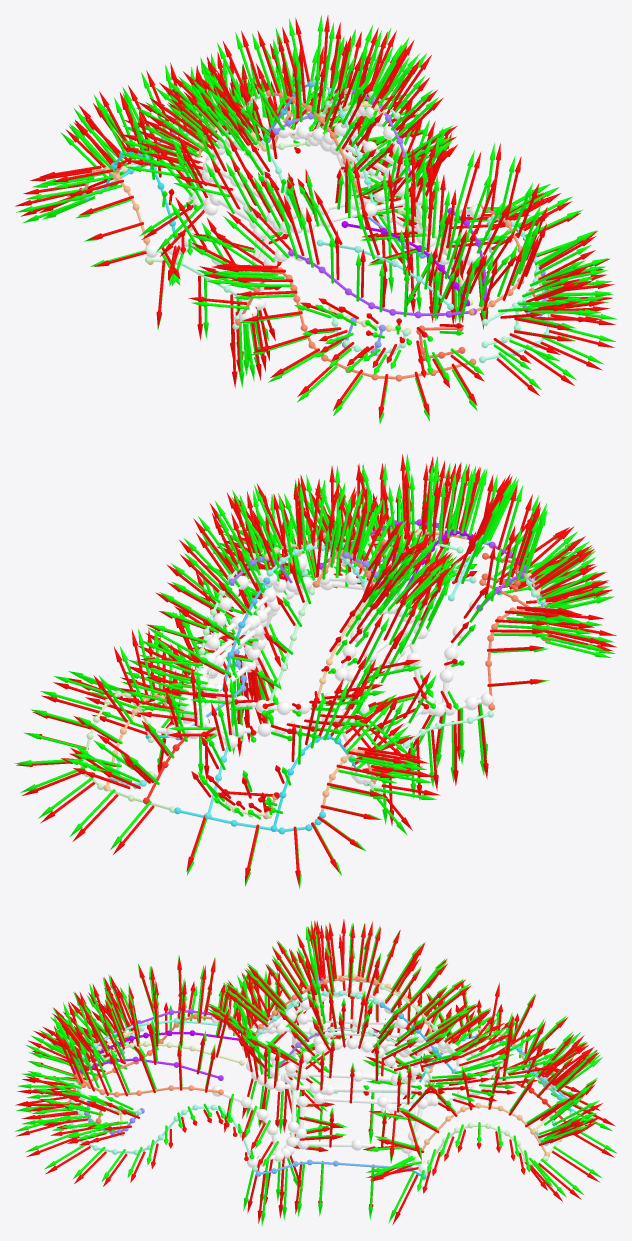
The model's file is author1_car.gltf.
3 renders of one model, top to bottom at view 1: azimuth 30°, elevation 25°; view 2: azimuth 150°, elevation 25°; view 3: azimuth 270°, elevation 25°, orthographic. The views are drawn at different scales.
Size of the model in its own units: 0.5911 by 0.4672 by 1.03.
